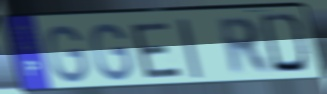D: (258, 12, 313, 77)
E: (128, 20, 185, 81)
G: (45, 23, 91, 85), (90, 21, 135, 83)
I: (175, 17, 205, 81)
R: (215, 16, 275, 79)
